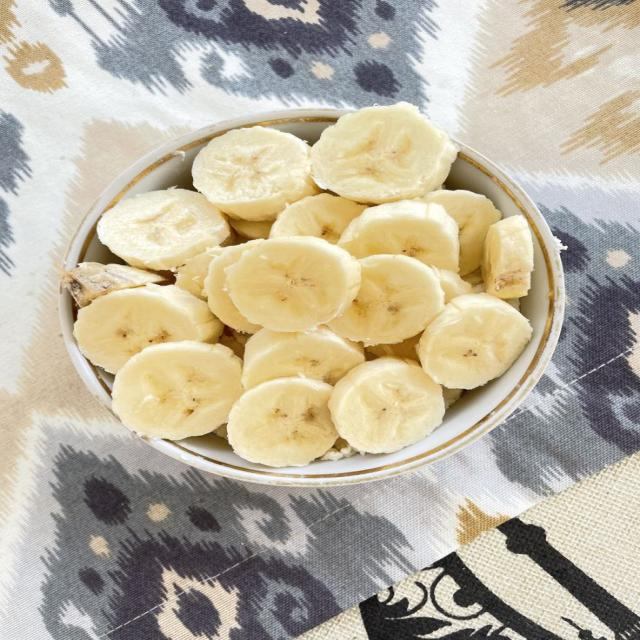banana slice: (312, 103, 456, 203), (74, 284, 222, 373), (113, 341, 242, 439), (226, 237, 359, 331), (193, 126, 319, 221), (329, 357, 445, 453), (418, 293, 531, 388), (98, 189, 229, 270), (328, 256, 444, 345), (227, 378, 337, 467), (338, 201, 459, 272), (242, 327, 364, 388), (422, 190, 501, 275), (204, 239, 265, 333), (270, 194, 366, 243), (61, 263, 166, 307), (482, 216, 533, 299), (176, 247, 223, 300), (432, 268, 473, 303), (366, 334, 420, 360), (229, 218, 272, 239), (320, 438, 357, 461), (219, 327, 244, 358), (220, 228, 246, 247), (442, 387, 463, 409), (461, 269, 483, 290), (229, 327, 251, 347), (505, 298, 519, 311), (473, 282, 485, 293)
